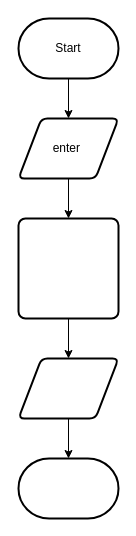
This 136x536 diagram has some shape labels left out. The centre of each missing label's shape, as x and y in pixels:
"Stop" goes at point 68,488.
"v= l x w x h /3" goes at point 68,268.
